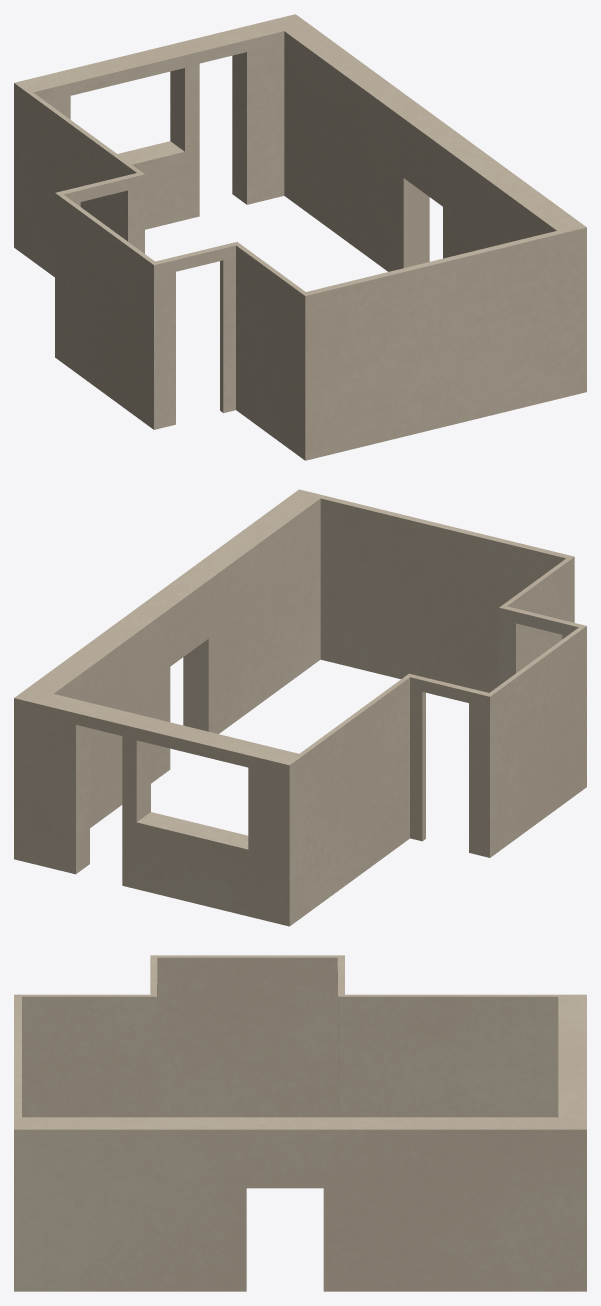
File: room_livingroom_portal .fbx
3 renders of one model, top to bottom at view 1: azimuth 30°, elevation 25°; view 2: azimuth 150°, elevation 25°; view 3: azimuth 270°, elevation 25°, orthographic. The views are drawn at different scales.
Visible parts, largest first — view 1: room_livingroom_portal; view 2: room_livingroom_portal; view 3: room_livingroom_portal.
Part boxes in pixels (<box>): room_livingroom_portal: <box>14,14,586,460</box>; room_livingroom_portal: <box>14,489,586,926</box>; room_livingroom_portal: <box>14,955,586,1291</box>.
Bounding box in the file's own units: 8.08 × 3.5 × 11.22.
1 material, 1 textured.
